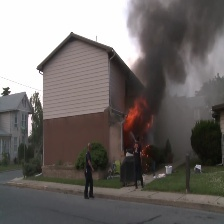fire: (123, 97, 154, 156)
